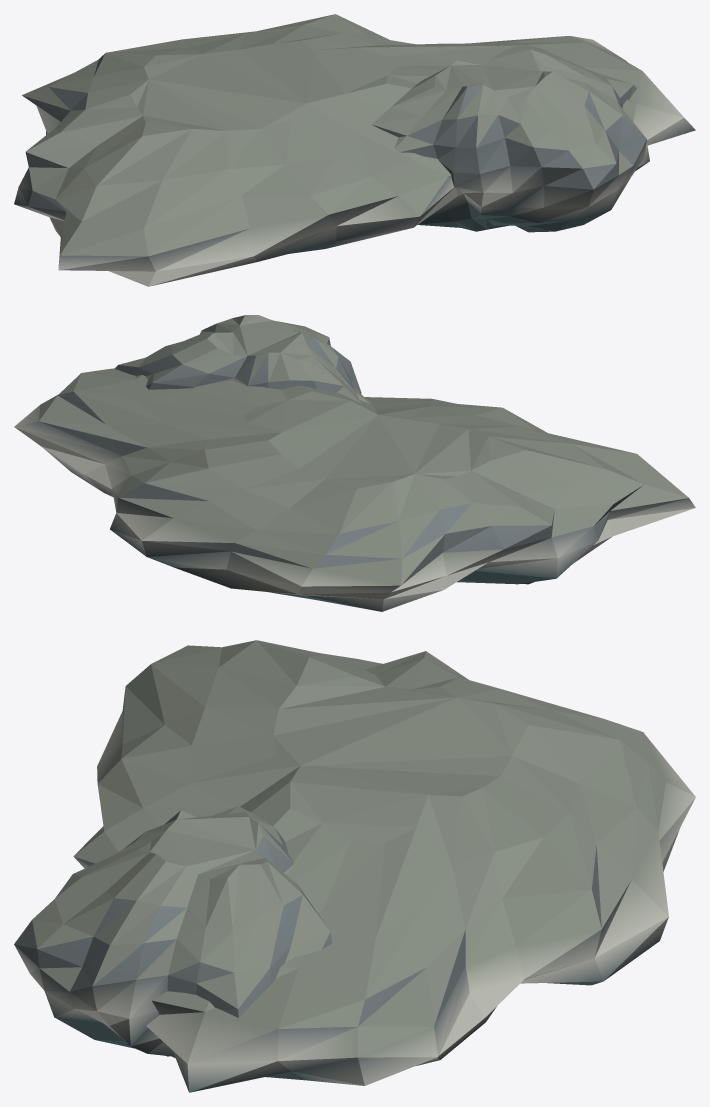
File: rock-reef.glb
The picture shows the model from 3 angles, top to bottom: view 1: azimuth 30°, elevation 25°; view 2: azimuth 150°, elevation 25°; view 3: azimuth 270°, elevation 25°; orthographic projection. The views are drawn at different scales.
Visible parts, largest first — view 1: rock-reef; view 2: rock-reef; view 3: rock-reef.
Part boxes in pixels (<box>): rock-reef: <box>14,14,695,286</box>; rock-reef: <box>14,315,695,611</box>; rock-reef: <box>14,640,695,1092</box>.
Size of the model in its own units: 11.5 by 2.65 by 8.07.
